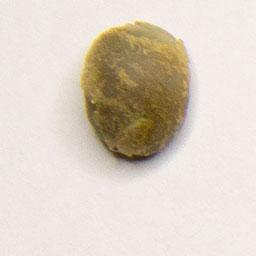premium: (77, 18, 194, 163)
